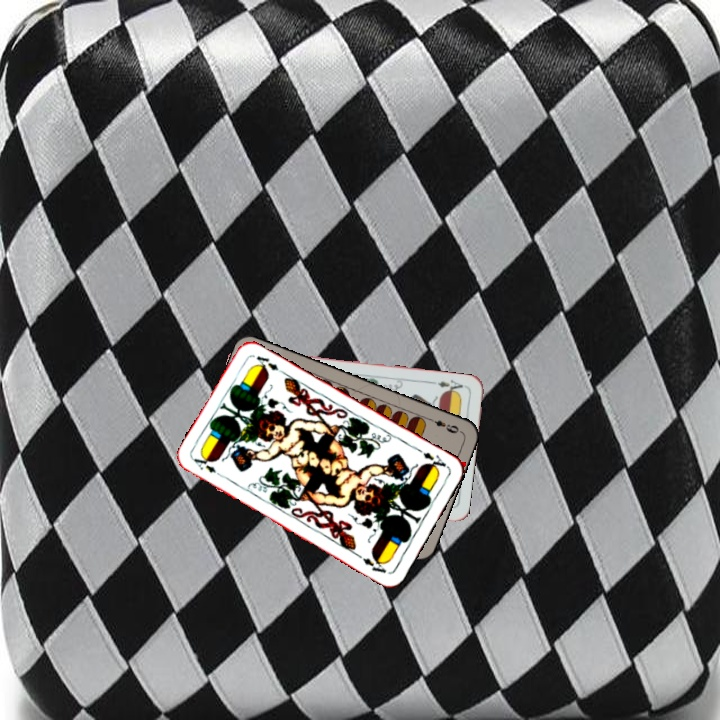E9: (424, 414, 462, 436)
EA: (413, 444, 450, 473), (189, 454, 227, 481), (434, 375, 469, 396)
